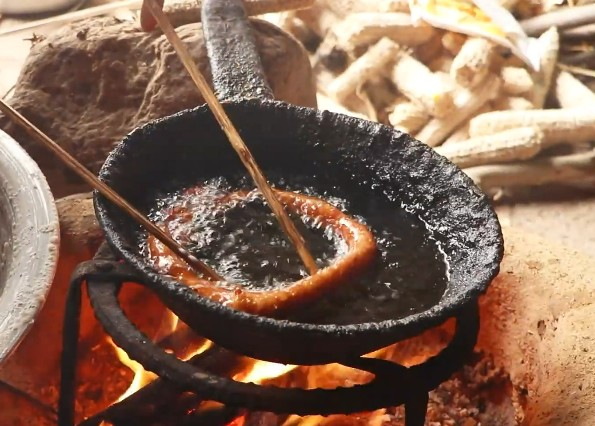sel_roti: (149, 184, 374, 312)
